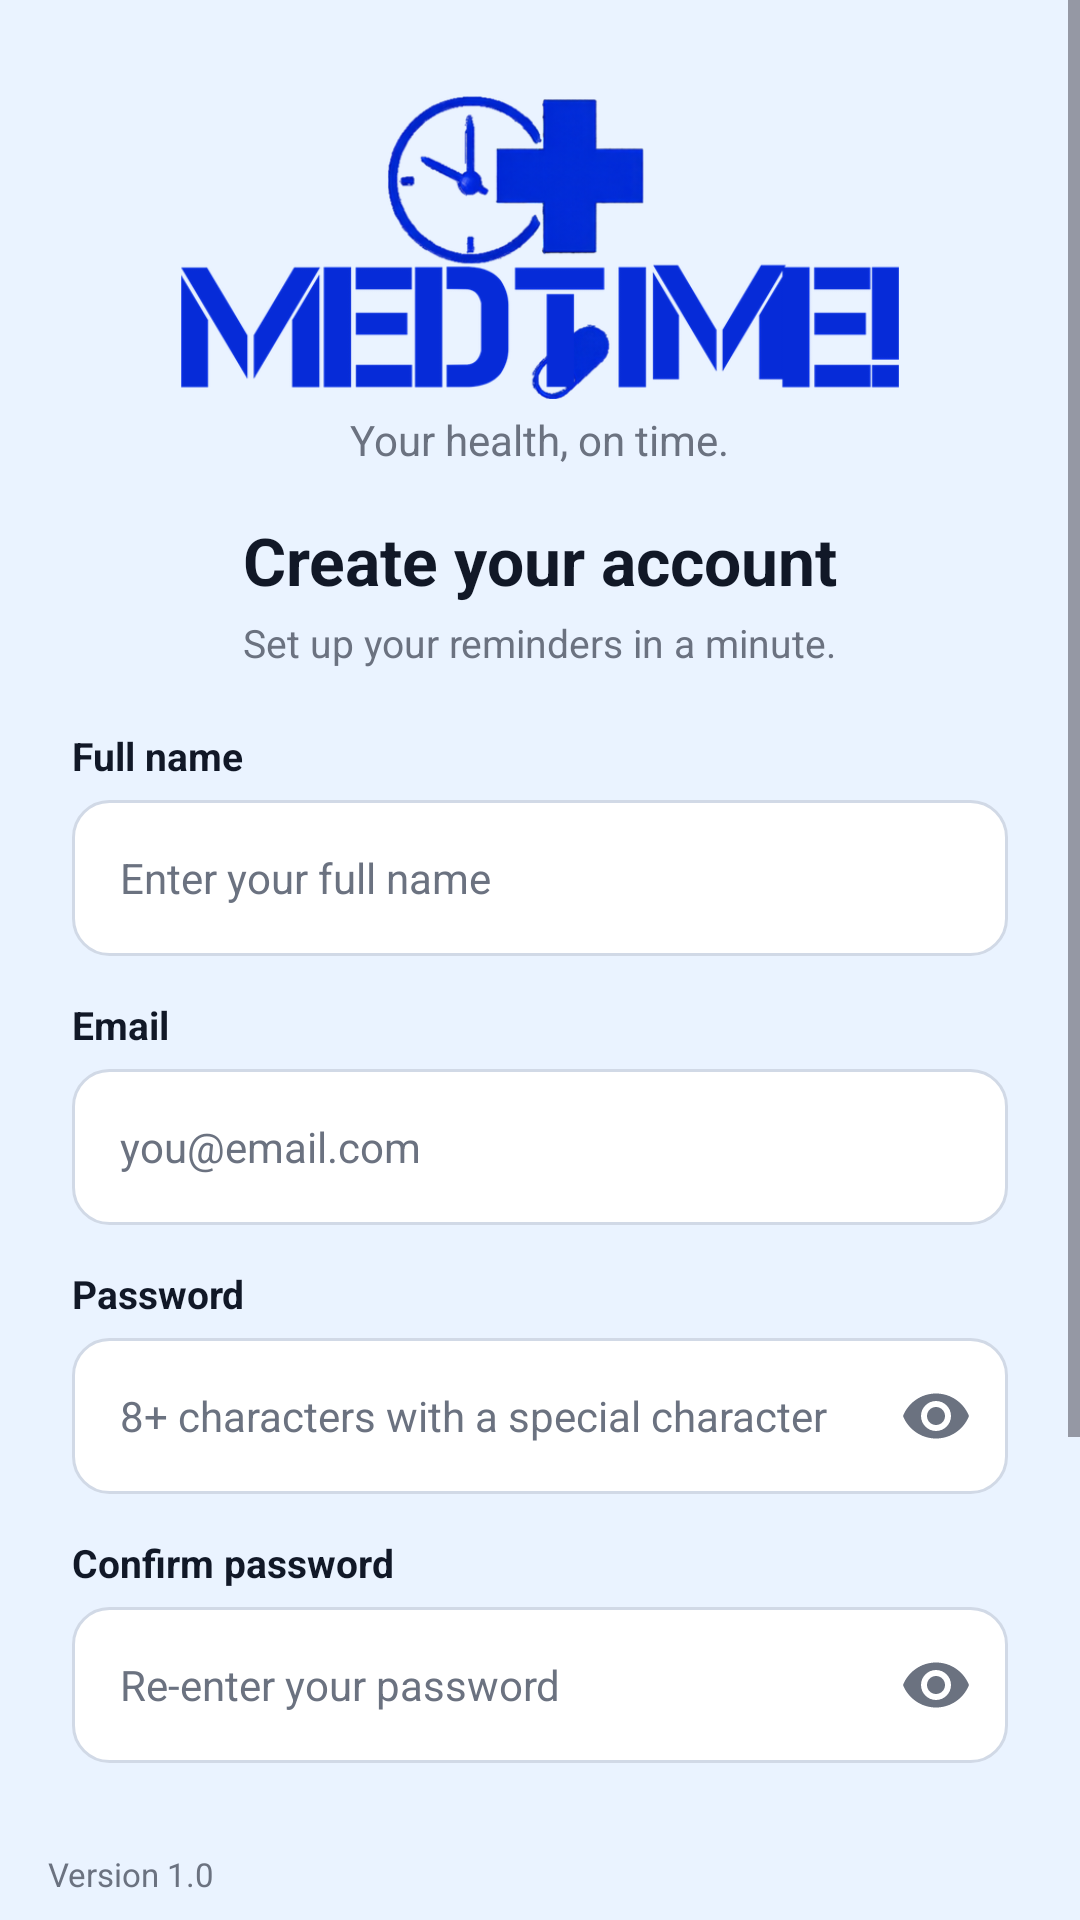

Where icons sit on this 1080×1920 app screen, as bbox(x1, y1, x2, y2):
eye: bbox(903, 1393, 969, 1439), bbox(903, 1662, 969, 1708)
